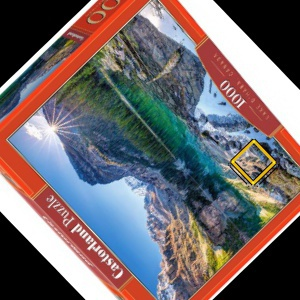square: (229, 138, 278, 186)
